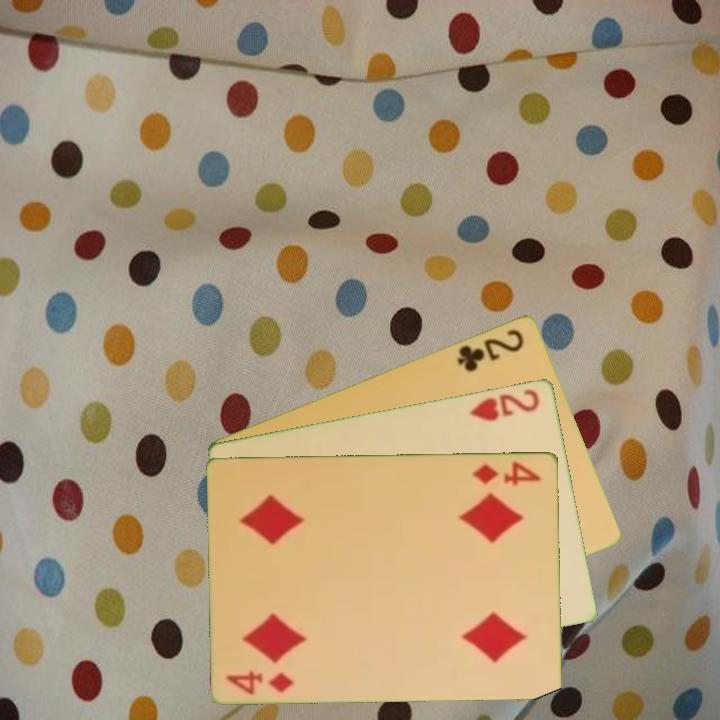2c: (453, 325, 527, 375)
2h: (467, 385, 543, 424)
4d: (223, 666, 298, 697), (469, 458, 544, 488)
